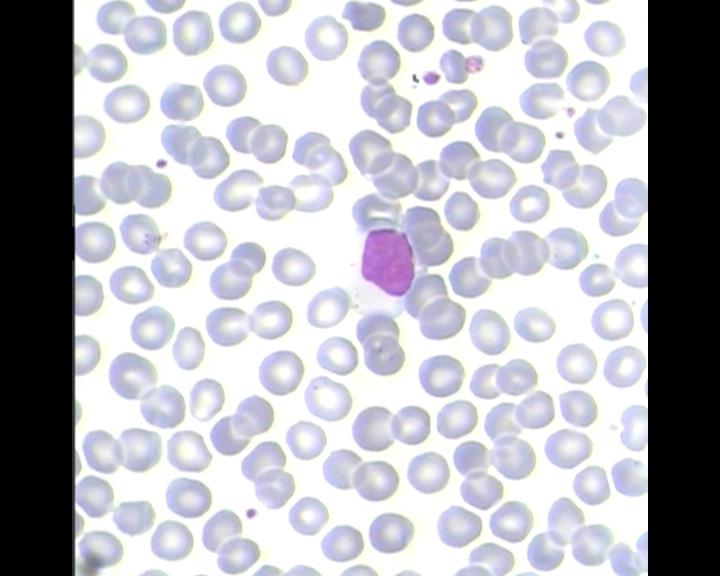lymp: (350, 222, 423, 322)
